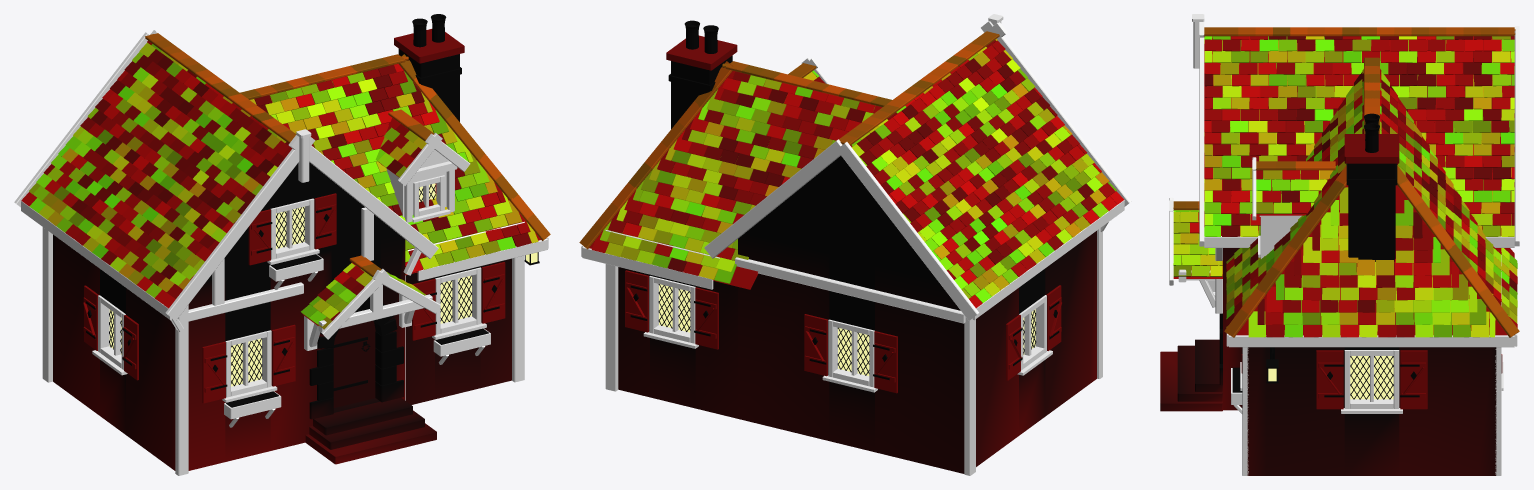
File: SilverbrookCottage2.fbx
The picture shows the model from 3 angles, left to right: view 1: azimuth 30°, elevation 25°; view 2: azimuth 150°, elevation 25°; view 3: azimuth 270°, elevation 25°; orthographic projection. The views are drawn at different scales.
Parts seen in each view (by area): view 1: SM_SBCottage2_Roof, SM_SBCottage2_Masonry, SM_SBCottage2_Timber, SM_SBCottage2_Details; view 2: SM_SBCottage2_Roof, SM_SBCottage2_Masonry, SM_SBCottage2_Timber, SM_SBCottage2_Details; view 3: SM_SBCottage2_Roof, SM_SBCottage2_Masonry, SM_SBCottage2_Timber, SM_SBCottage2_Details.
Boxes of the visible parts, x1=… form: SM_SBCottage2_Roof: x1=21, y1=33, x2=550, y2=329; SM_SBCottage2_Masonry: x1=53, y1=29, x2=511, y2=470; SM_SBCottage2_Timber: x1=14, y1=30, x2=548, y2=475; SM_SBCottage2_Details: x1=83, y1=14, x2=539, y2=407; SM_SBCottage2_Roof: x1=579, y1=31, x2=1123, y2=308; SM_SBCottage2_Masonry: x1=618, y1=35, x2=1096, y2=473; SM_SBCottage2_Timber: x1=581, y1=14, x2=1131, y2=475; SM_SBCottage2_Details: x1=625, y1=20, x2=1061, y2=393; SM_SBCottage2_Roof: x1=1173, y1=27, x2=1519, y2=337; SM_SBCottage2_Masonry: x1=1160, y1=134, x2=1496, y2=475; SM_SBCottage2_Timber: x1=1169, y1=14, x2=1519, y2=475; SM_SBCottage2_Details: x1=1232, y1=113, x2=1502, y2=409.
Size of the model in its own units: 786 by 599 by 579.
